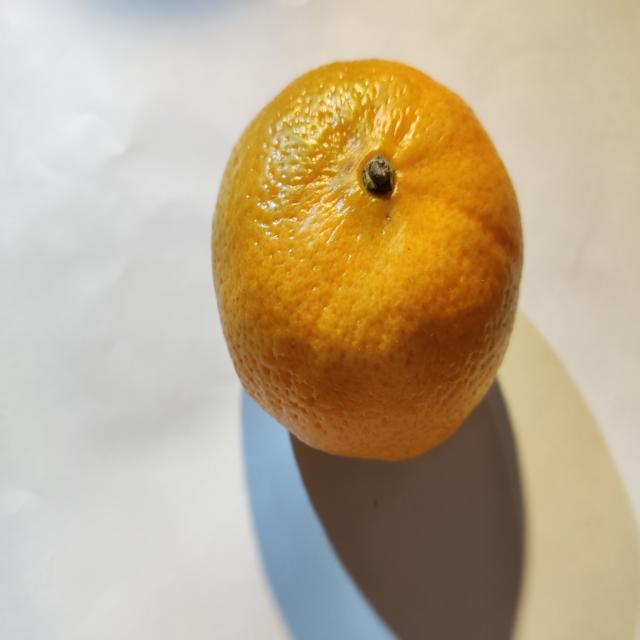orange: (213, 61, 522, 459)
